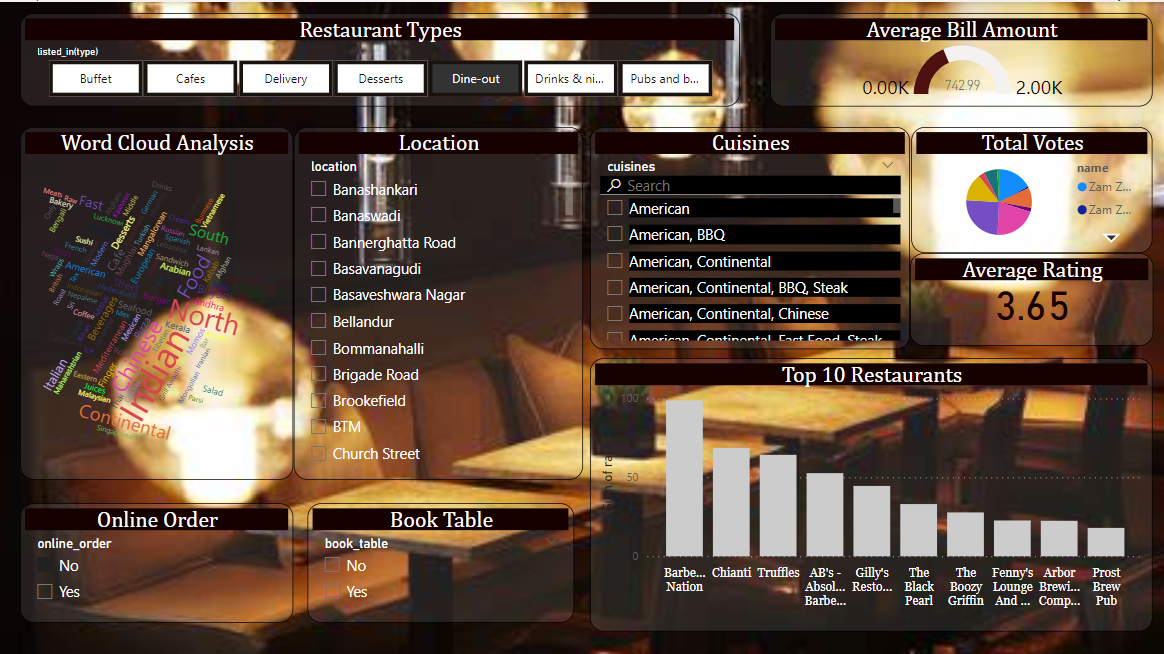

The page's visual inventory and layout, read from the dashboard file:
{"tool":"powerbi","page":{"name":"Page 1","canvas":[1280,720],"ordinal":0},"visuals":[{"type":"gauge","title":"Average Bill Amount","fields":{"Y":["Avg(zomato.approx_cost(for two people))"]},"box":[845,12.5,420,102.5],"z":0},{"type":"slicer","title":"Restaurant Types ","fields":{"Values":["zomato.listed_in(type)"]},"box":[22.5,12.5,790,102.5],"z":1000},{"type":"pieChart","title":"Total Votes","fields":{"Y":["Sum(zomato.votes)"],"Series":["zomato.name"]},"box":[1000.3,137.2,264.8,138.6],"z":2000},{"type":"card","title":"Average Rating","fields":{"Values":["Avg(zomato.rate)"]},"box":[998.8,276.2,267.5,101.2],"z":3000},{"type":"clusteredColumnChart","title":"Top 10 Restaurants","fields":{"Category":["zomato.name"],"Y":["Sum(zomato.rate)"]},"box":[647.5,391.2,617.5,300],"z":4000},{"type":"slicer","title":"Online Order","fields":{"Values":["zomato.online_order"]},"box":[22.5,550,300,131.2],"z":5000},{"type":"slicer","title":"Book Table","fields":{"Values":["zomato.book_table"]},"box":[337.5,550,292.5,131.2],"z":6000},{"type":"slicer","title":"Location","fields":{"Values":["zomato.location"]},"box":[322.5,137.5,317.5,387.5],"z":7000},{"type":"slicer","title":"Cuisines","fields":{"Values":["zomato.cuisines"]},"box":[647.5,137.5,351.2,243.8],"z":8000},{"type":"WordCloud1447959067750","title":"Word Cloud Analysis","fields":{"Category":["zomato.cuisines"]},"box":[22.5,137.5,300,387.5],"z":9000}]}

Visuals, with their boxes in screenshot pixels (x1, y1, x2, y2), scaled from the page's 1280x720 canvas onto the 1164x654 screenshot:
"Average Bill Amount" gauge: locate(768, 11, 1150, 104)
"Restaurant Types " slicer: locate(20, 11, 739, 104)
"Total Votes" pieChart: locate(910, 125, 1150, 251)
"Average Rating" card: locate(908, 251, 1152, 343)
"Top 10 Restaurants" clusteredColumnChart: locate(589, 355, 1150, 628)
"Online Order" slicer: locate(20, 500, 293, 619)
"Book Table" slicer: locate(307, 500, 573, 619)
"Location" slicer: locate(293, 125, 582, 477)
"Cuisines" slicer: locate(589, 125, 908, 346)
"Word Cloud Analysis" WordCloud1447959067750: locate(20, 125, 293, 477)
